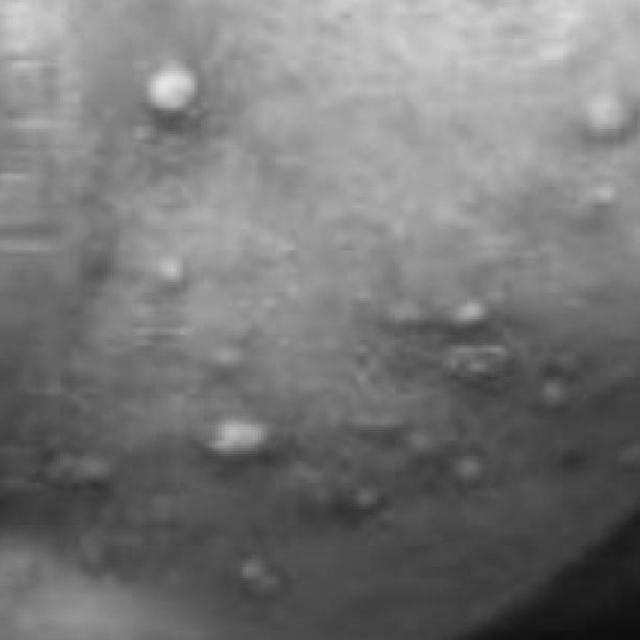pustule: (140, 383, 301, 476), (95, 53, 236, 140), (553, 58, 640, 176)
